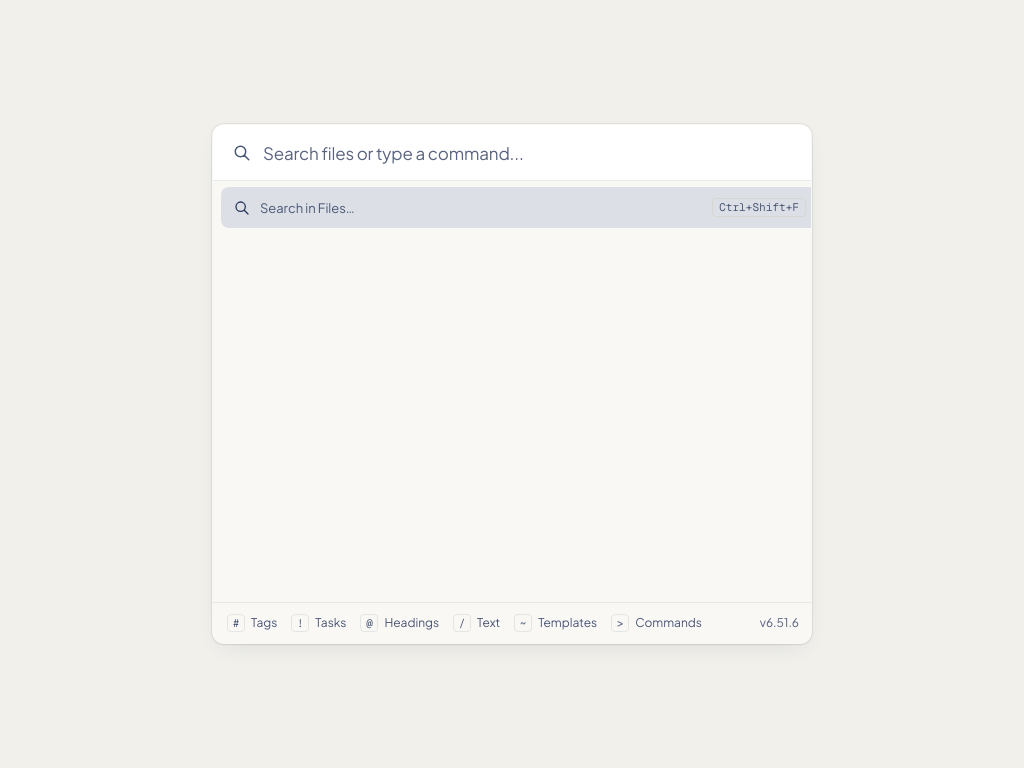
CommandPalette / note text scope › with Regex on › toggles from the Regex chip and Alt+R, only in the text scope
This screenshot has width=1024, height=768.
Press k
In the dropdown: (531, 152) [263,125,799,180], type "/needle"
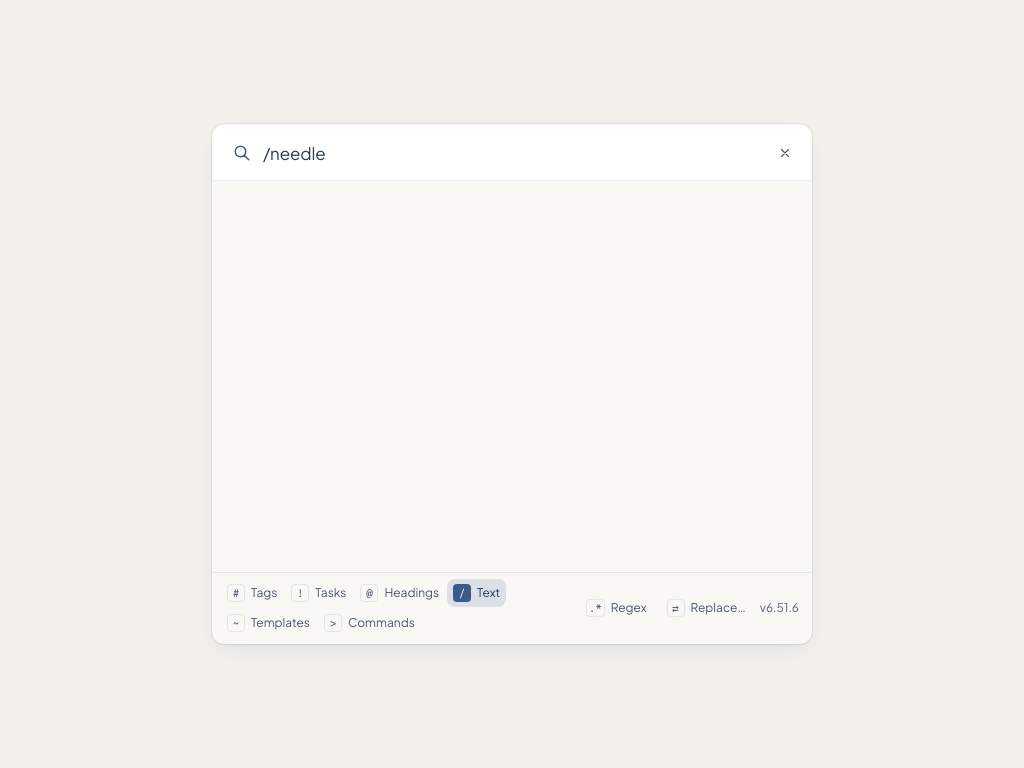
Press ® in the dropdown, box [263,125,759,180]
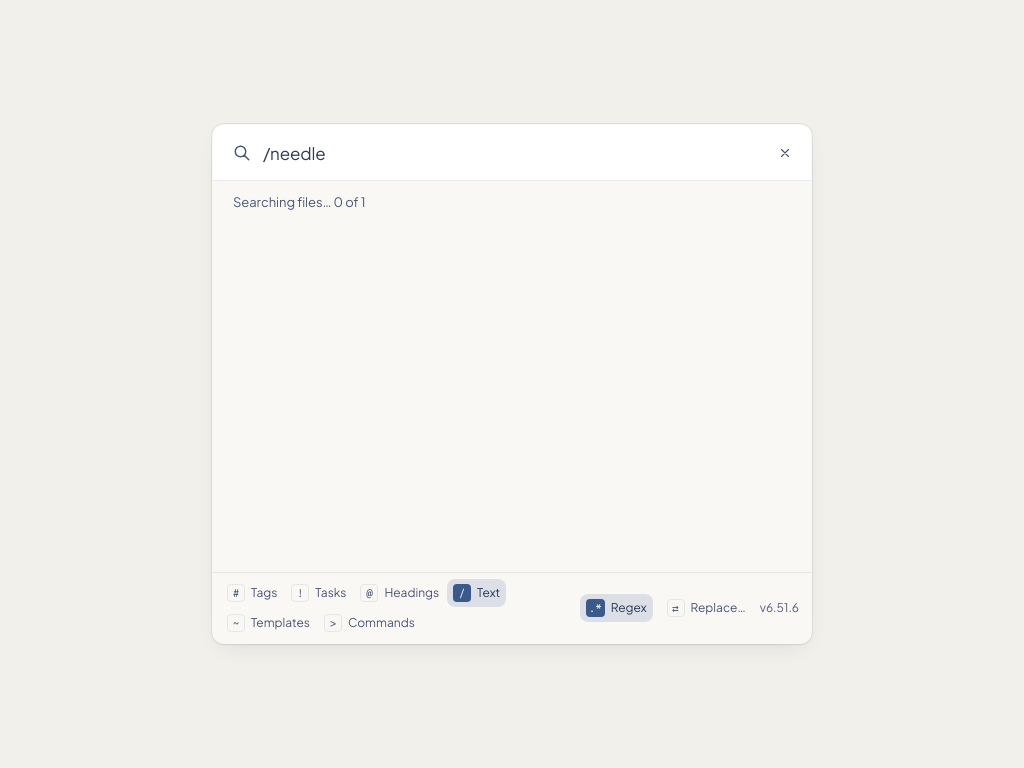
expect the button ".* Regex" is pressed: met
Click the button ".* Regex": (616, 608) [580,594,653,622]
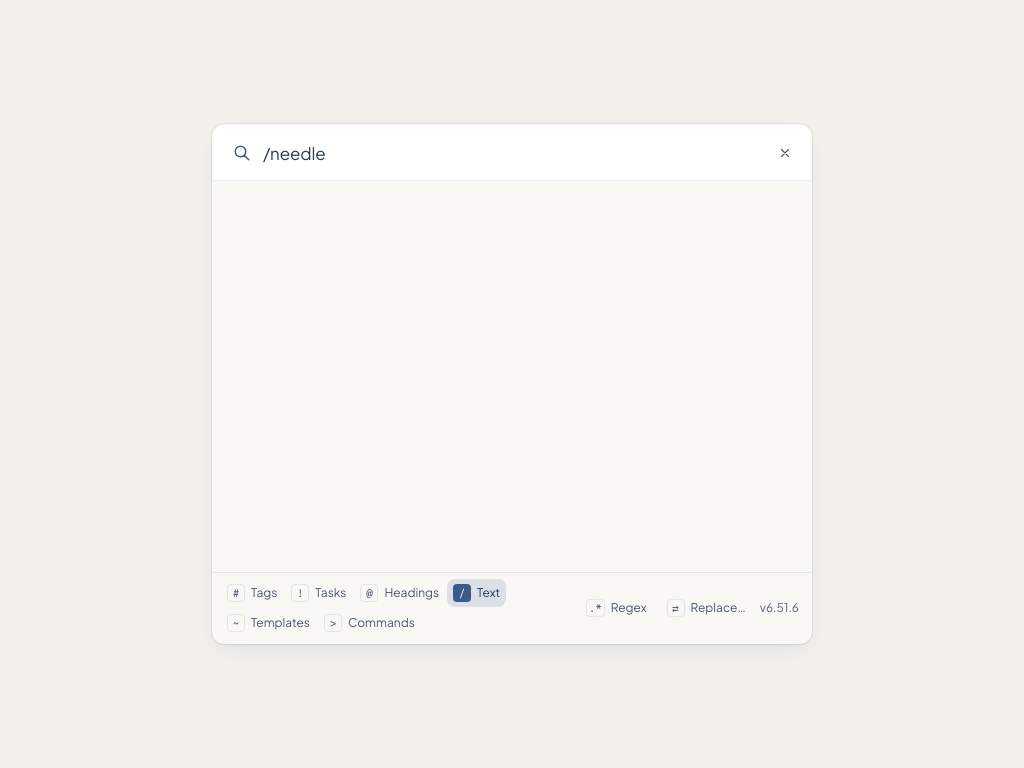
expect the button ".* Regex" is not pressed: met, box [580,594,653,622]
Replace the text in the dropdown with "needle": (511, 152) [263,125,759,180]
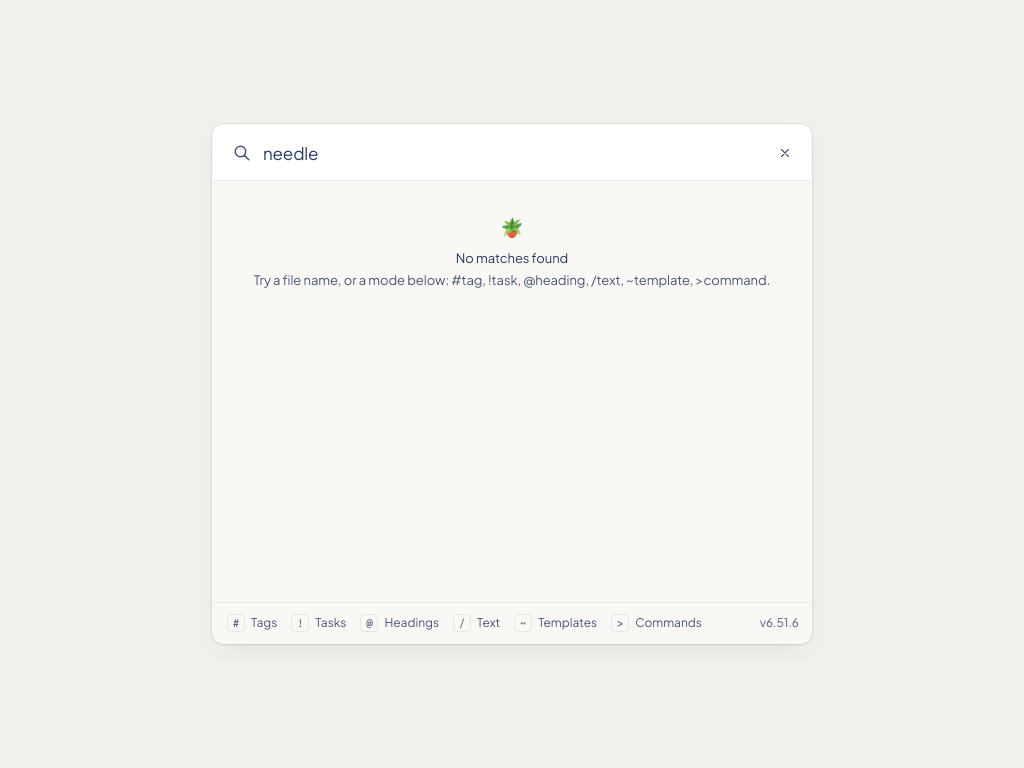
expect the button "Regex" is gone: met
